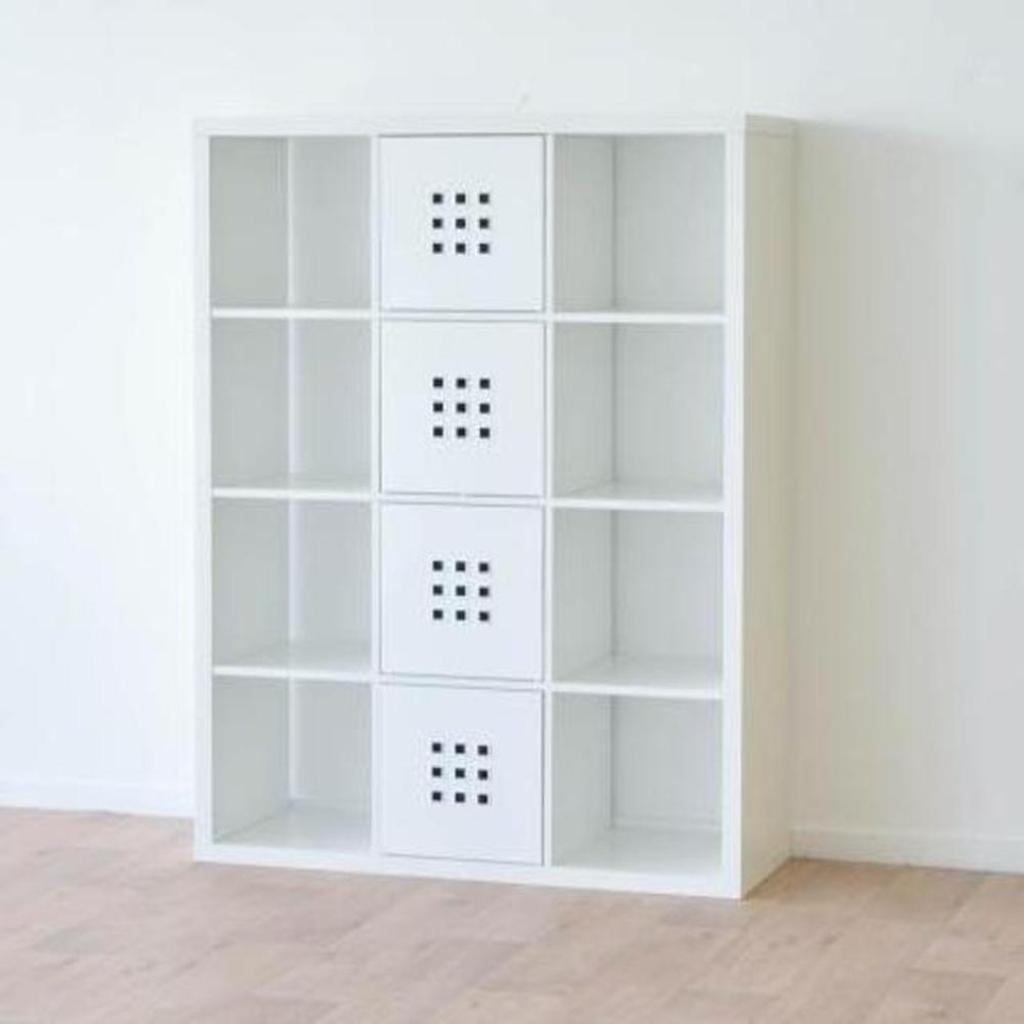lamp: (182, 100, 798, 909)
